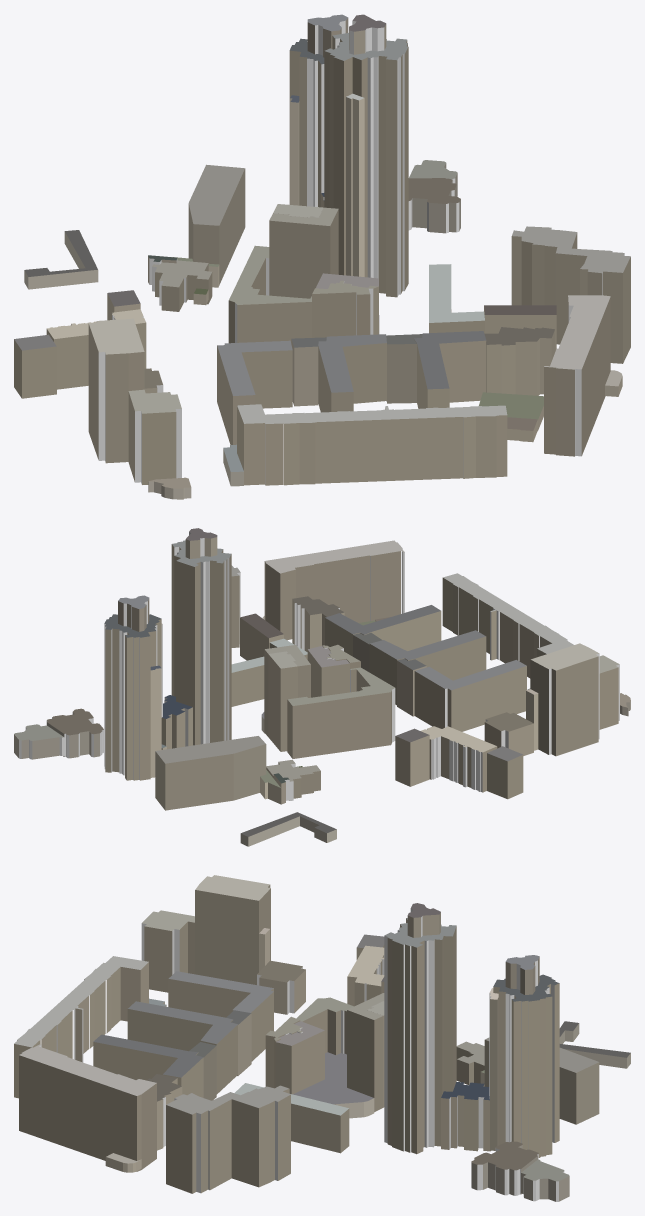
3 views of the same model, one above another, from view 1: azimuth 30°, elevation 25°; view 2: azimuth 150°, elevation 25°; view 3: azimuth 270°, elevation 25° (orthographic). The views are drawn at different scales.
Parts seen in each view (by area): view 1: tuile; view 2: tuile; view 3: tuile.
Part boxes in pixels (<box>): tuile: <box>14,14,630,499</box>; tuile: <box>14,528,630,846</box>; tuile: <box>14,875,630,1201</box>.
Bounding box in the file's own units: 269 × 124 × 303.
